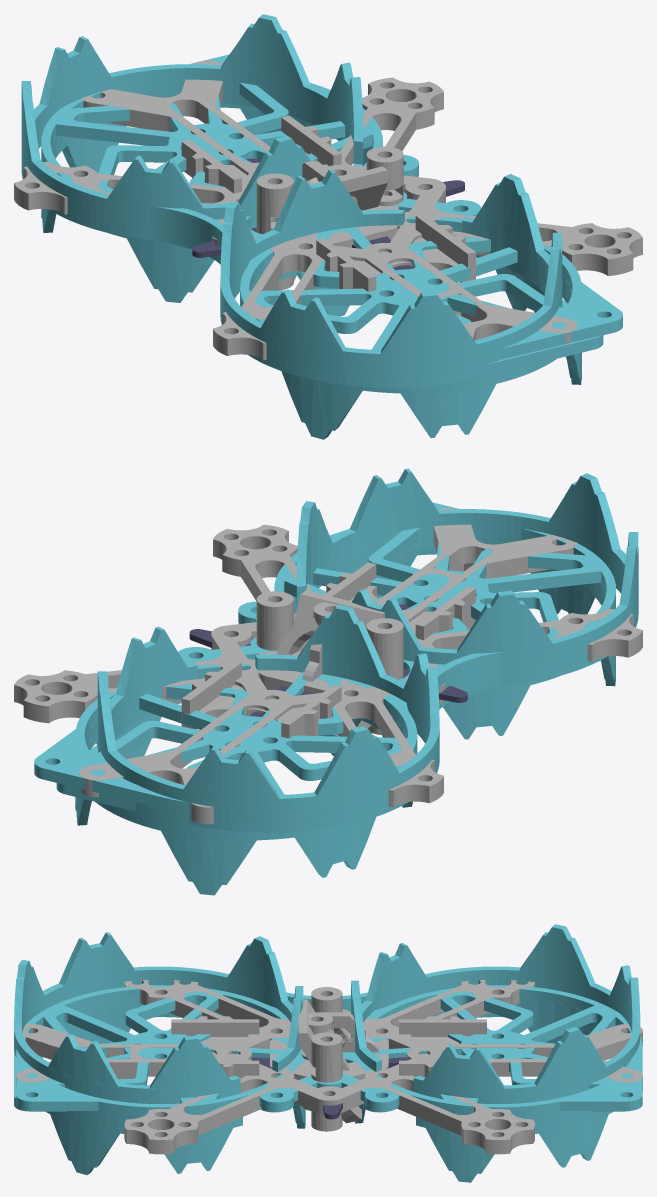
File: bateleur.v0.2.9.squashed.glb
3 renders of one model, top to bottom at view 1: azimuth 30°, elevation 25°; view 2: azimuth 150°, elevation 25°; view 3: azimuth 270°, elevation 25°, orthographic. The views are drawn at different scales.
Visible parts, largest first — view 1: PropguardsBottom, PropguardsTop, Coretop, Batteryplate, Antennamount, Corebottom, Prop, CameraBracket; view 2: PropguardsBottom, PropguardsTop, Coretop, Batteryplate, Antennamount, Corebottom, Prop, CameraBracket; view 3: PropguardsBottom, PropguardsTop, Coretop, Batteryplate, Antennamount, Corebottom, CameraBracket, Prop.
Boxes of the visible parts, x1=… form: PropguardsBottom: x1=21, y1=14, x2=603, y2=387; PropguardsTop: x1=41, y1=54, x2=622, y2=439; Coretop: x1=14, y1=60, x2=642, y2=360; Batteryplate: x1=181, y1=115, x2=475, y2=291; Antennamount: x1=256, y1=146, x2=403, y2=290; Corebottom: x1=83, y1=81, x2=570, y2=343; Prop: x1=192, y1=158, x2=464, y2=270; CameraBracket: x1=302, y1=160, x2=357, y2=204; PropguardsBottom: x1=56, y1=468, x2=638, y2=832; PropguardsTop: x1=34, y1=502, x2=615, y2=895; Coretop: x1=14, y1=507, x2=642, y2=824; Batteryplate: x1=181, y1=562, x2=475, y2=738; Antennamount: x1=256, y1=590, x2=403, y2=736; Corebottom: x1=128, y1=525, x2=560, y2=768; Prop: x1=189, y1=604, x2=467, y2=717; CameraBracket: x1=302, y1=602, x2=337, y2=681; PropguardsBottom: x1=14, y1=924, x2=640, y2=1112; PropguardsTop: x1=16, y1=985, x2=642, y2=1182; Coretop: x1=16, y1=980, x2=642, y2=1154; Batteryplate: x1=171, y1=1016, x2=486, y2=1112; Antennamount: x1=298, y1=987, x2=361, y2=1131; Corebottom: x1=16, y1=1028, x2=627, y2=1114; CameraBracket: x1=301, y1=1012, x2=378, y2=1110; Prop: x1=251, y1=1048, x2=459, y2=1119.
Bounding box in the file's own units: 78 × 28.09 × 119.
